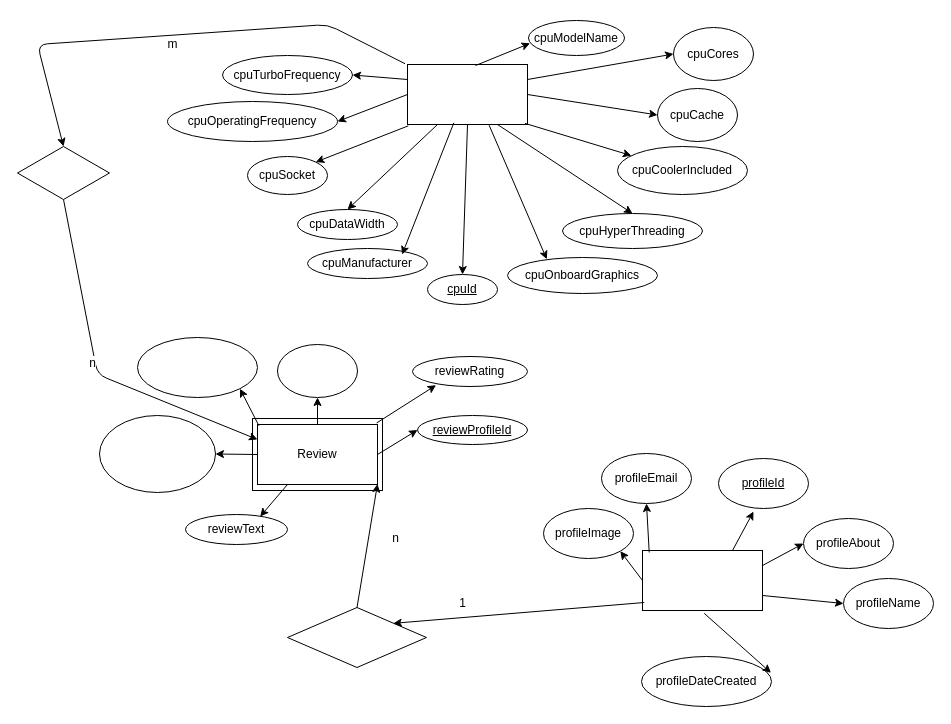
This 951x724 diagram has some shape labels left out. The shapes that lost their labels are listed below. From the top down, each one's centre as x and y in pixels, then its label:
the point at 467,94: CPU
the point at 63,173: Is Reviewed
the point at 197,367: reviewTimeDate
the point at 317,371: reviewId
the point at 157,453: reviewCpuId
the point at 702,580: Profile
the point at 356,637: Writes Review
